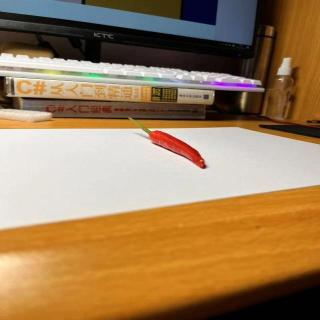Cabai Merah: (129, 117, 207, 169)
